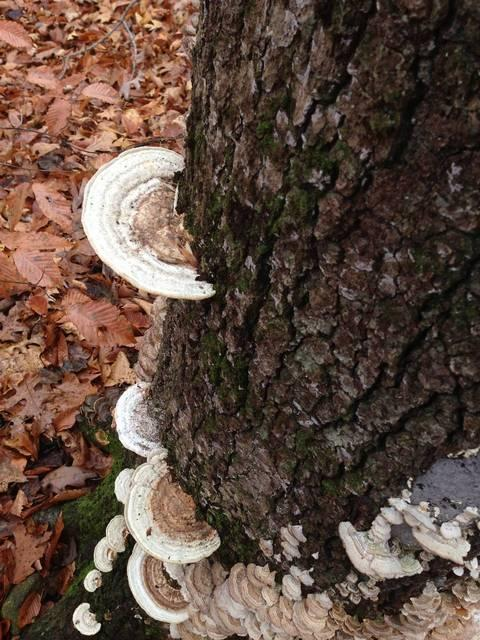poisonous_mushroom: (53, 377, 216, 633), (205, 495, 480, 640), (79, 143, 216, 302)
